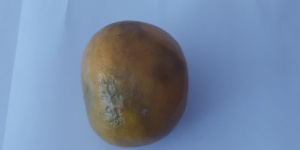BAD: (80, 19, 191, 146)
